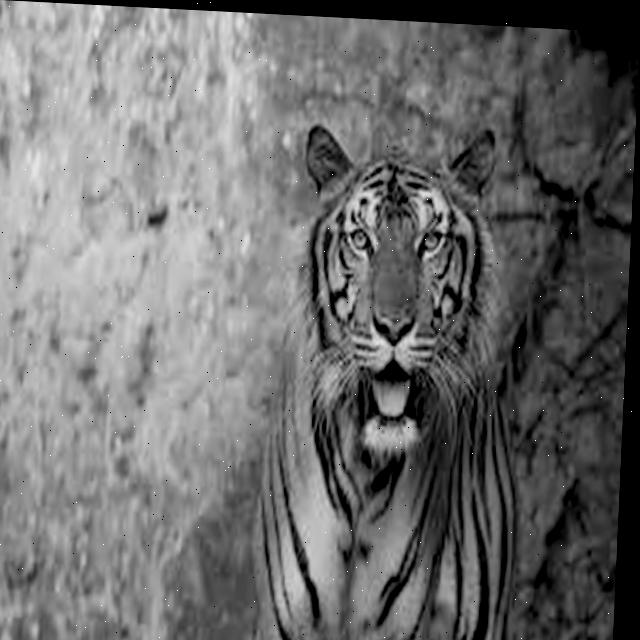Tiger: (242, 115, 542, 640)
